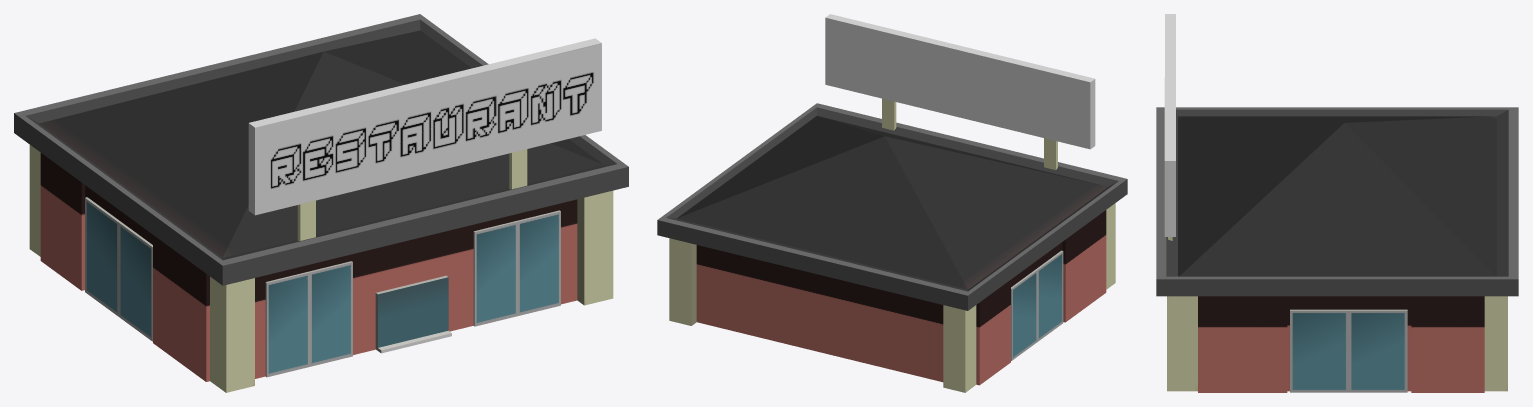
Rendered from Restaurant.fbx.
The picture shows the model from 3 angles, left to right: view 1: azimuth 30°, elevation 25°; view 2: azimuth 150°, elevation 25°; view 3: azimuth 270°, elevation 25°; orthographic projection. The views are drawn at different scales.
Parts seen in each view (by area): view 1: Restaurant; view 2: Restaurant; view 3: Restaurant.
Part boxes in pixels (x1=…): Restaurant: x1=14, y1=14, x2=628, y2=392; Restaurant: x1=657, y1=14, x2=1127, y2=392; Restaurant: x1=1156, y1=14, x2=1518, y2=392.
Bounding box in the file's own units: 509 × 311 × 453.
